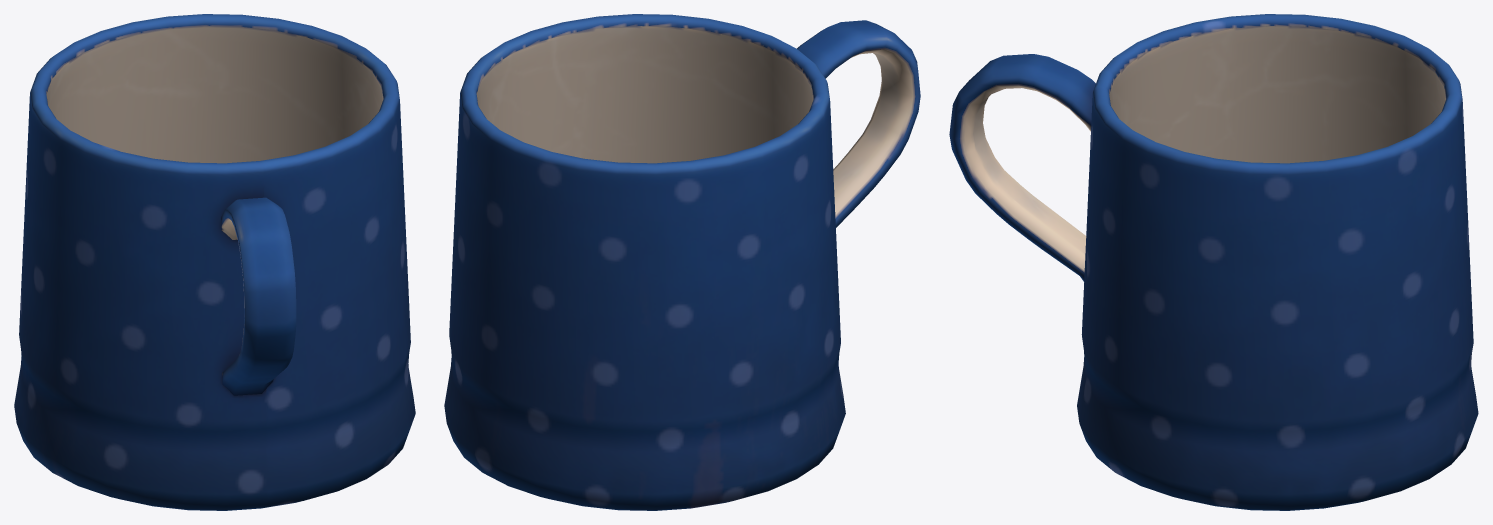
File: SM_BreakfastProps_Mug.fbx
3 views of the same model, side by side, from view 1: azimuth 30°, elevation 25°; view 2: azimuth 150°, elevation 25°; view 3: azimuth 270°, elevation 25° (orthographic).
Visible parts, largest first — view 1: SM_BreakfastProps_Mug_LOD0; view 2: SM_BreakfastProps_Mug_LOD0; view 3: SM_BreakfastProps_Mug_LOD0.
Part boxes in pixels (x1=…): SM_BreakfastProps_Mug_LOD0: x1=14, y1=14, x2=415, y2=510; SM_BreakfastProps_Mug_LOD0: x1=444, y1=14, x2=920, y2=510; SM_BreakfastProps_Mug_LOD0: x1=949, y1=14, x2=1478, y2=510.
Size of the model in its own units: 12.64 by 16.66 by 12.21.
1 material, 1 textured.
